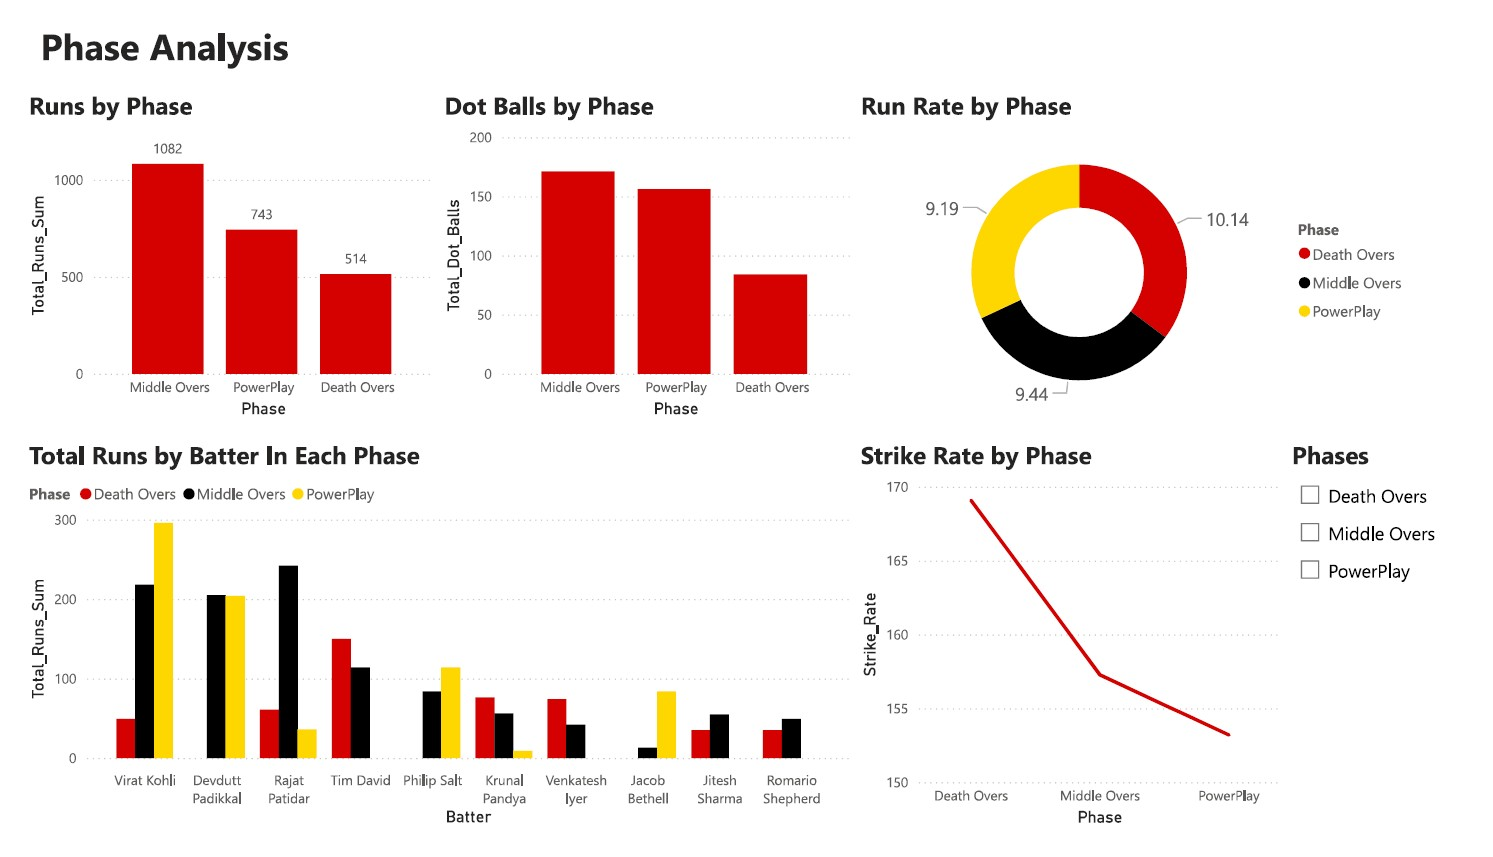

Layout of this report page (visuals, bound fields, positions):
{"tool":"powerbi","page":{"name":"Phase Analysis","canvas":[1280,720],"ordinal":1},"visuals":[{"type":"textbox","box":[10,0,235,56.2],"z":0},{"type":"columnChart","title":"Runs by Phase","fields":{"Category":["rcb_batter.Phase"],"Y":["rcb_batter.Total_Runs_Sum"]},"box":[0,65,366.2,295],"z":1000},{"type":"lineChart","title":"Strike Rate by Phase","fields":{"Y":["rcb_batter.Strike_Rate"],"Category":["rcb_batter.Phase"]},"box":[732.5,372.5,380,347.5],"z":2000},{"type":"columnChart","title":"Dot Balls by Phase","fields":{"Y":["rcb_batter.Total_Dot_Balls"],"Category":["rcb_batter.Phase"]},"box":[366.2,65,366.2,295],"z":3000},{"type":"donutChart","title":"Run Rate by Phase","fields":{"Category":["rcb_batter.Phase"],"Y":["rcb_batter.Runs_Per_Over"]},"box":[732.5,65,496.2,295],"z":4000},{"type":"clusteredColumnChart","title":"Total Runs by Batter In Each Phase","fields":{"Category":["rcb_batter.Batter"],"Series":["rcb_batter.Phase"],"Y":["rcb_batter.Total_Runs_Sum"]},"box":[0,372.5,732.5,347.5],"z":5000},{"type":"slicer","title":"Phases","fields":{"Values":["rcb_batter.Phase"]},"box":[1112.5,372.5,167.5,146.2],"z":6000}]}

Visuals, with their boxes in screenshot pixels (x1, y1, x2, y2), scaled from the page's 1280x720 canvas onto the 1493x857 screenshot:
textbox: 12:0:286:67
"Runs by Phase" columnChart: 0:77:427:428
"Strike Rate by Phase" lineChart: 854:443:1298:856
"Dot Balls by Phase" columnChart: 427:77:854:428
"Run Rate by Phase" donutChart: 854:77:1433:428
"Total Runs by Batter In Each Phase" clusteredColumnChart: 0:443:854:856
"Phases" slicer: 1298:443:1492:617
